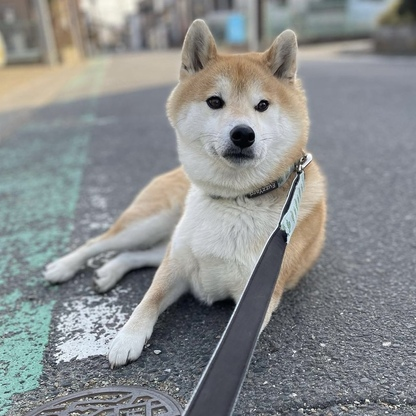shiba: (38, 12, 336, 374)
